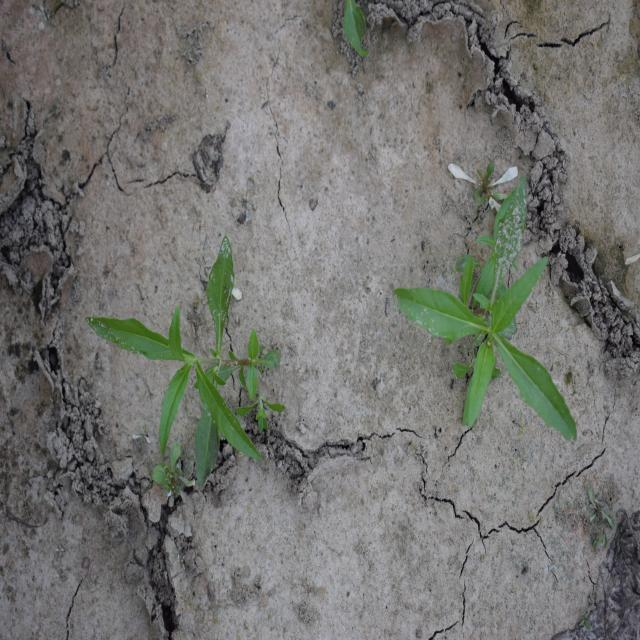Eclipta: (84, 233, 286, 491), (391, 175, 579, 446)
